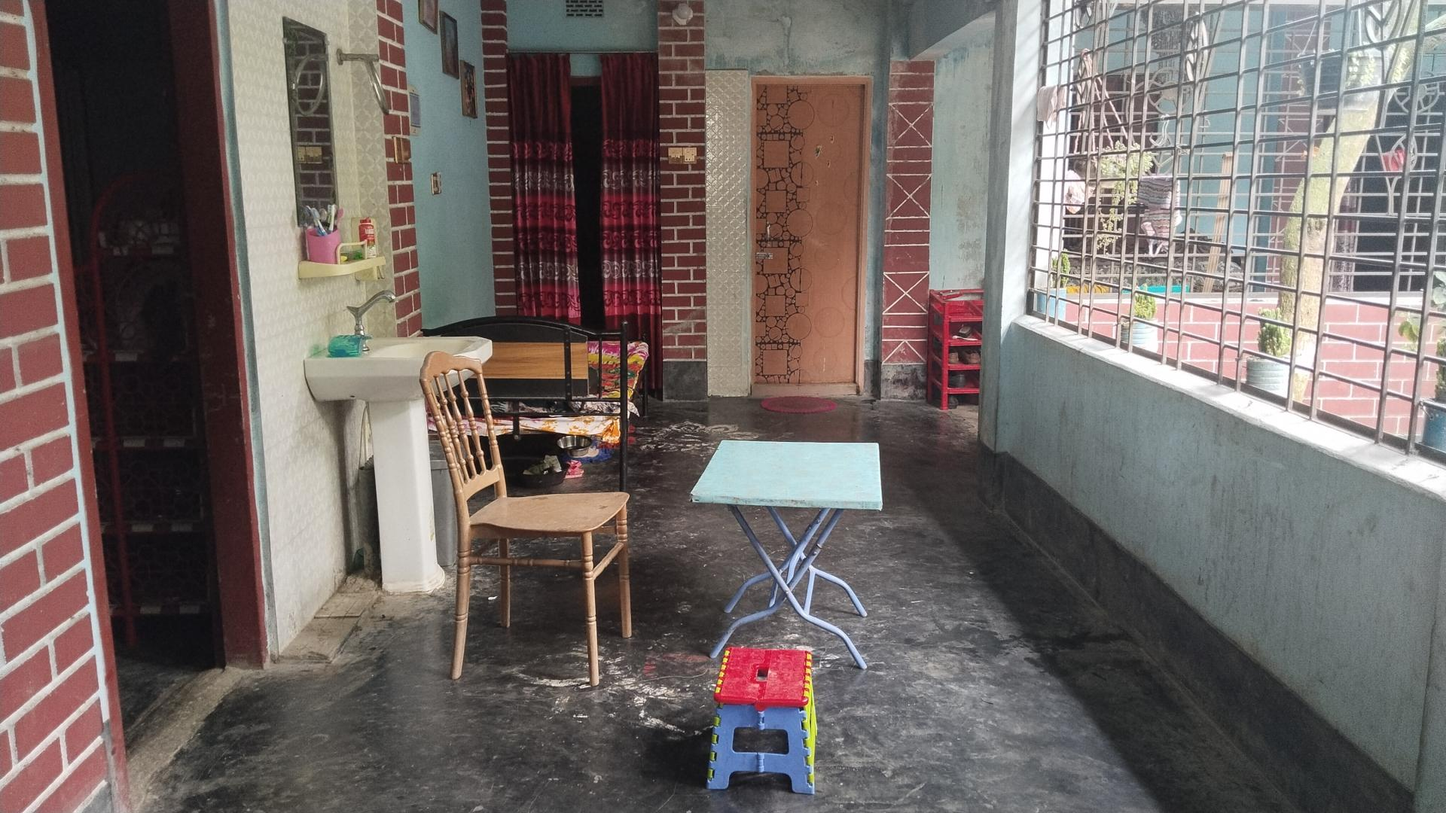Chair: (419, 347, 642, 681)
Door: (745, 79, 859, 394)
Stool: (718, 647, 823, 790)
Table: (701, 429, 887, 639)
